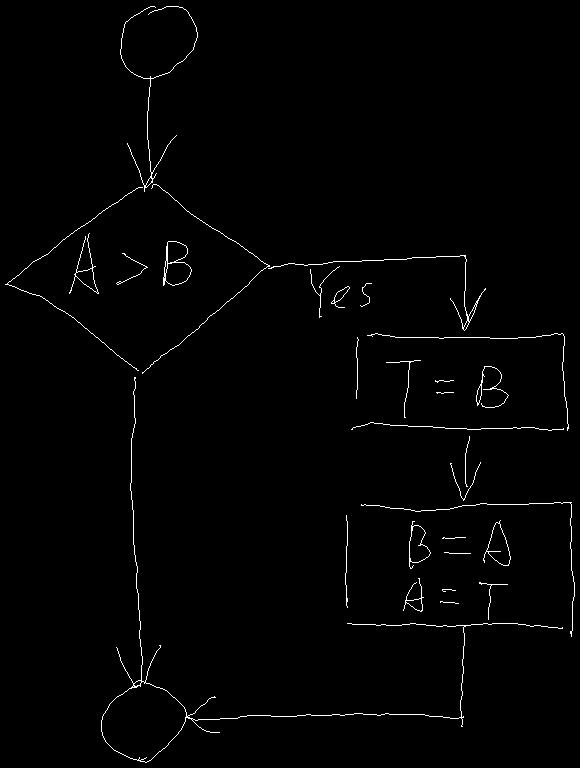arrow: (186, 626, 465, 732), (268, 255, 485, 330), (116, 377, 160, 687), (127, 76, 176, 191), (450, 436, 480, 500)
connection: (101, 680, 186, 762), (120, 6, 197, 78)
decision: (5, 184, 269, 373)
process: (345, 502, 574, 636), (351, 333, 568, 430)
text: (403, 520, 510, 619), (69, 233, 191, 293), (386, 360, 508, 417), (310, 266, 371, 317)
